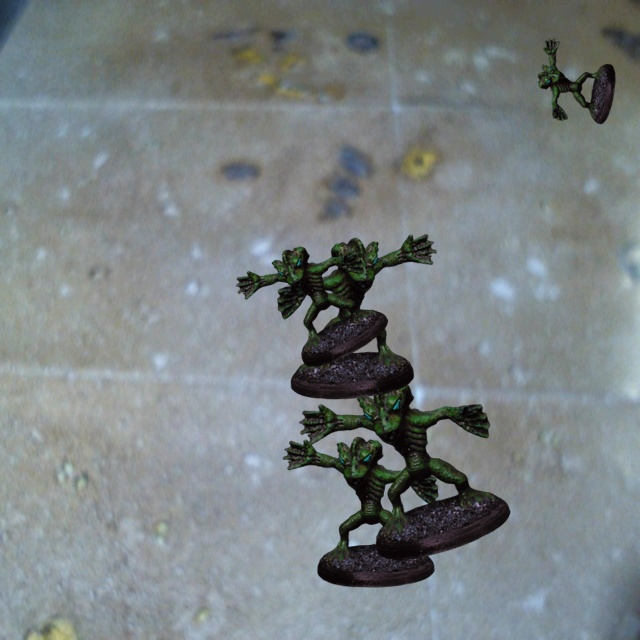pieza_juego: (299, 382, 510, 560), (277, 234, 436, 398), (283, 437, 438, 587), (236, 246, 387, 366), (538, 38, 615, 123)
